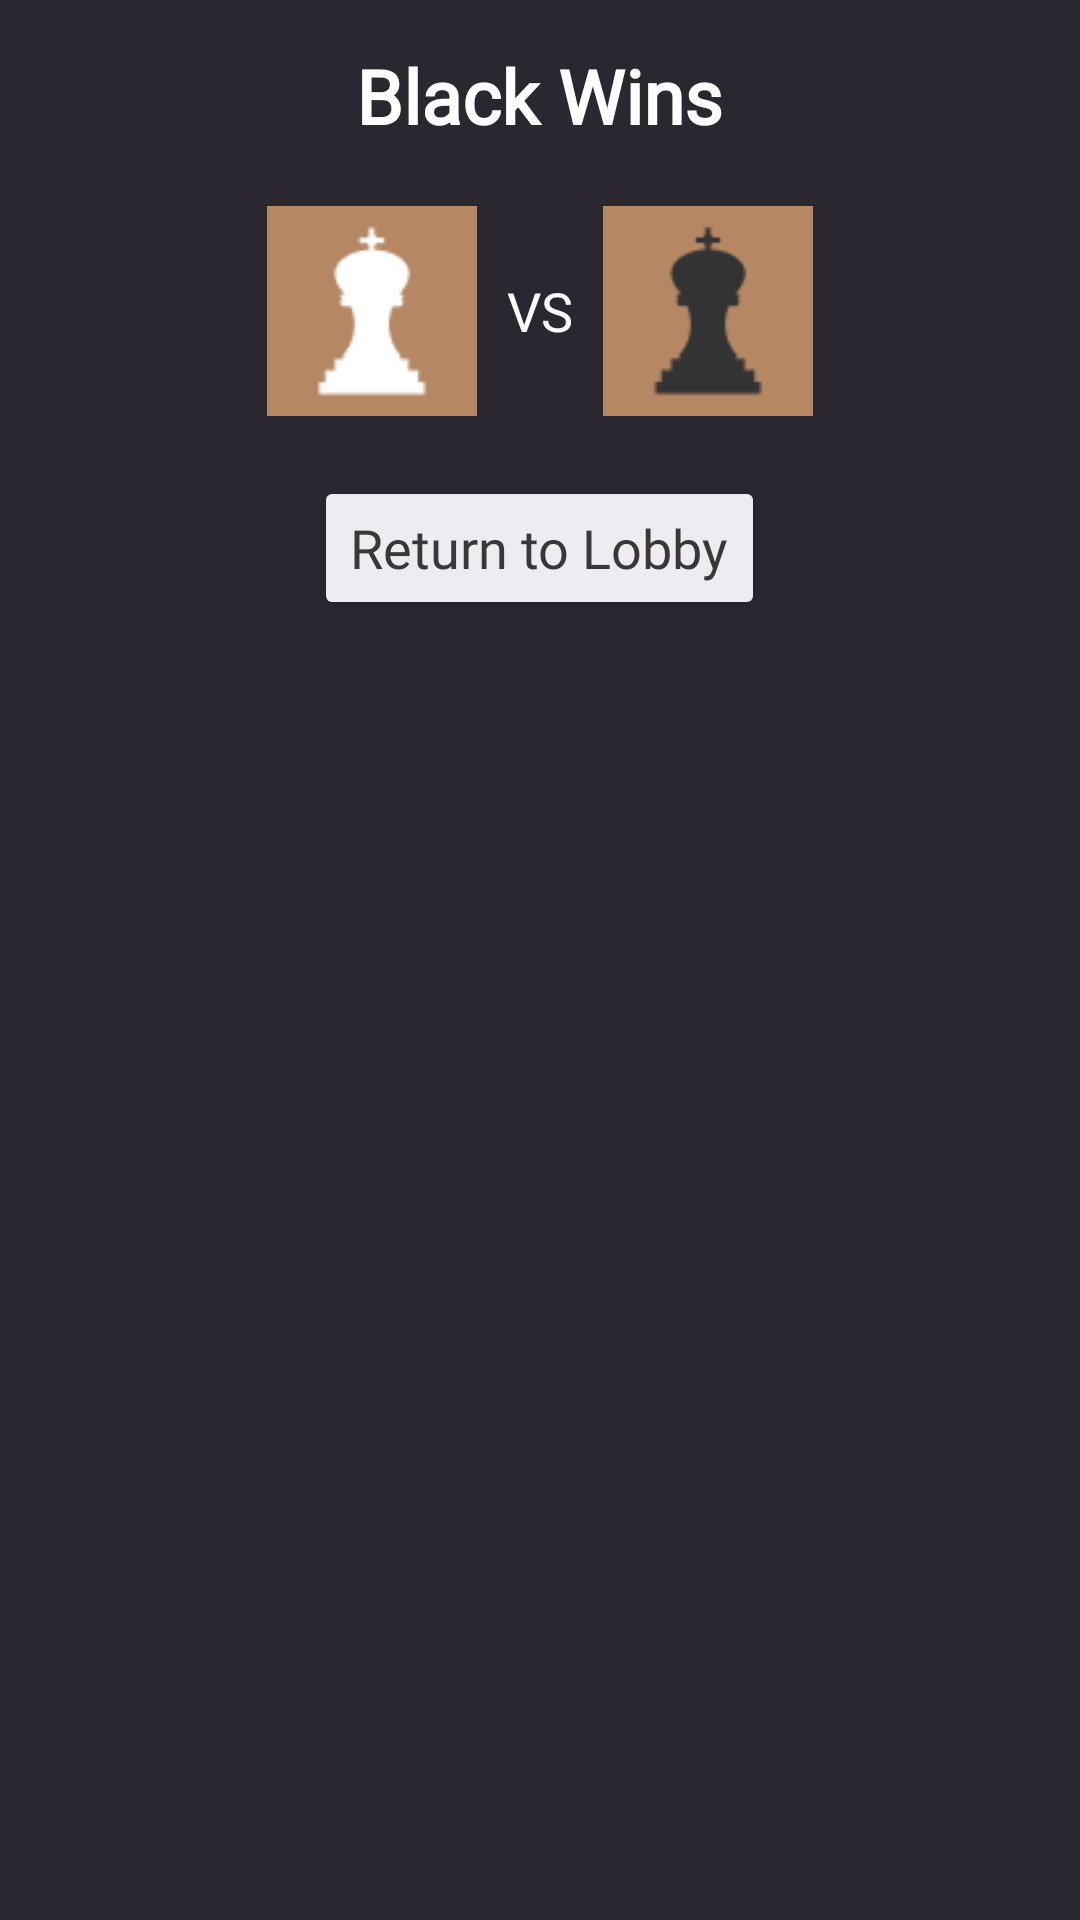

Point at icon controls on the screen. Image size 1080w x 1920h, points as point (x, y).
black chess piece: point (708, 311)
white chess piece: point (372, 311)
